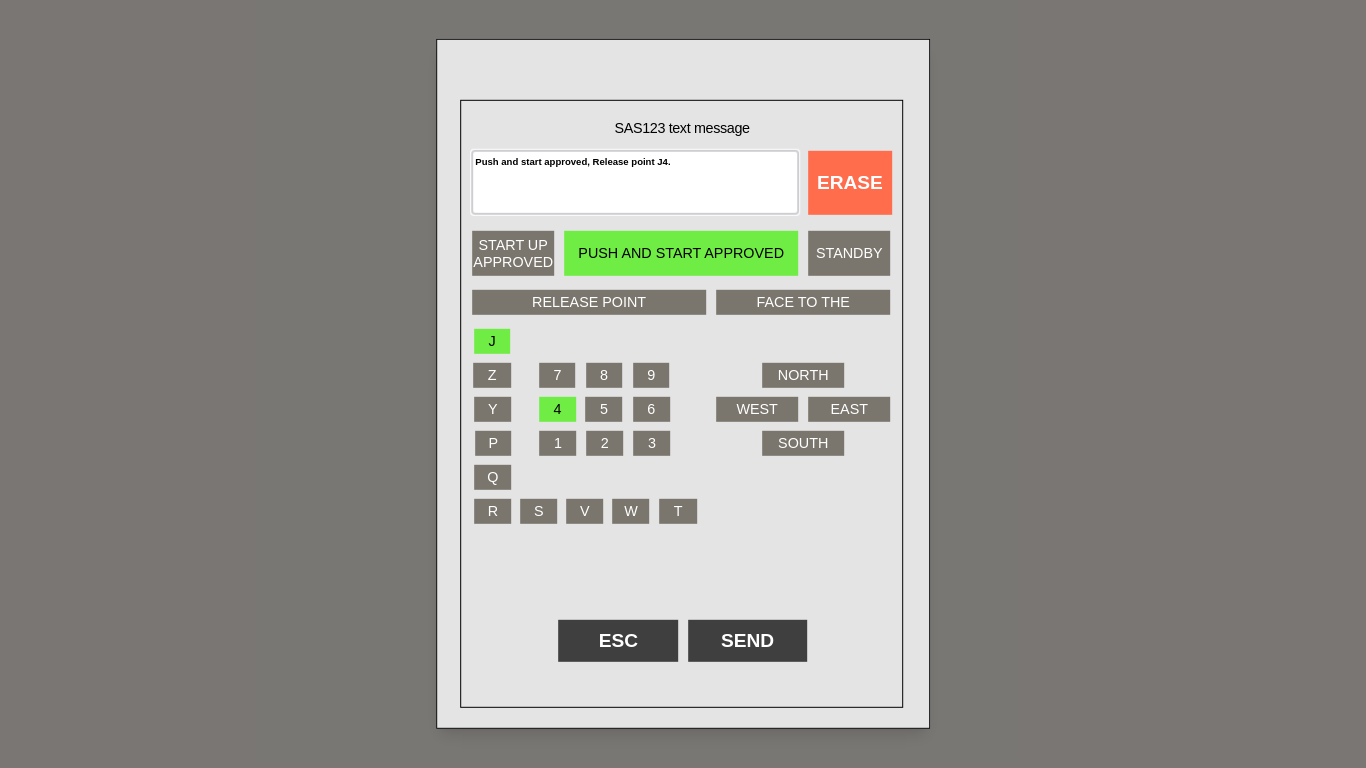
Test: text pilot composer › shows and removes the initial push letter and digit
What coordinates should you click on to do the following:
click the button "J"
I would click on:
 (492, 341)
Its box is [474,329,510,354].
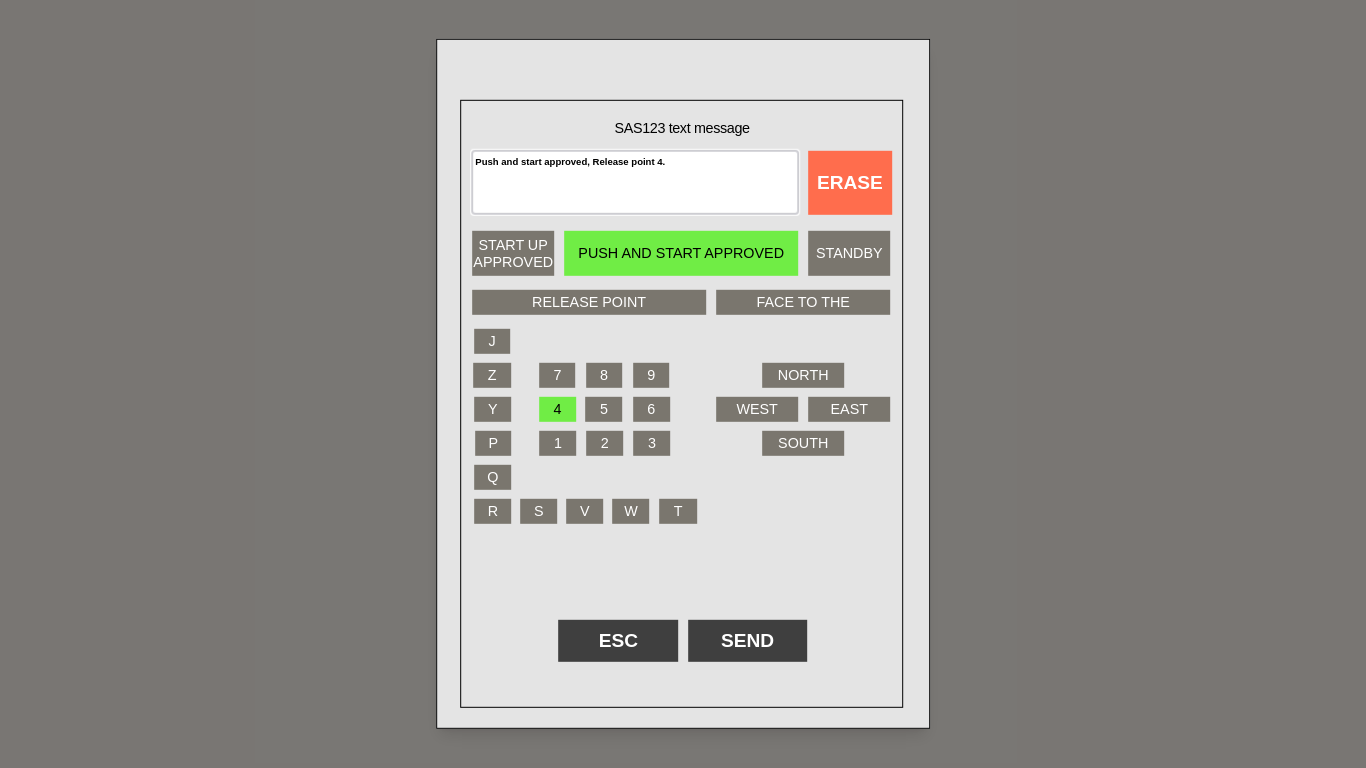
Expected: the text box holds "Push and start approved, Release point 4.", [472,151,798,214]
